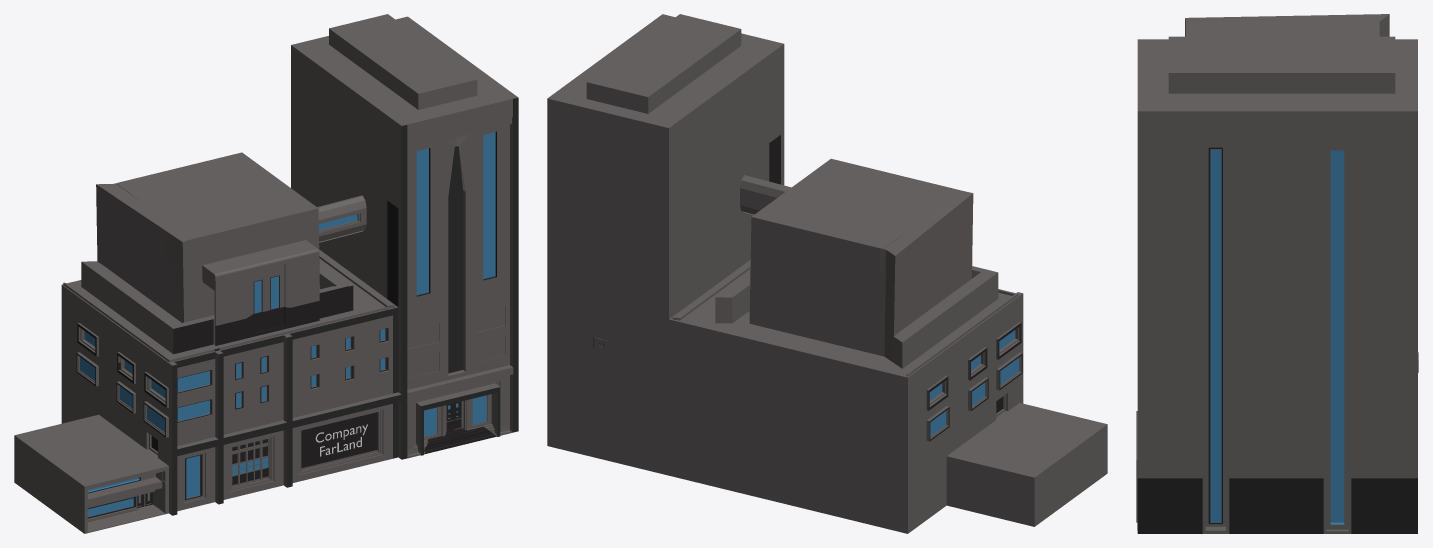
The model's file is wieza 1.fbx.
3 views of the same model, side by side, from view 1: azimuth 30°, elevation 25°; view 2: azimuth 150°, elevation 25°; view 3: azimuth 270°, elevation 25° (orthographic). The views are drawn at different scales.
Visible parts, largest first — view 1: Cube; view 2: Cube; view 3: Cube.
Part boxes in pixels (x1,y1,x2,y2): Cube: (14, 14, 518, 533); Cube: (547, 14, 1107, 533); Cube: (1136, 14, 1418, 533).
Size of the model in its own units: 3158 by 2452 by 1416.
